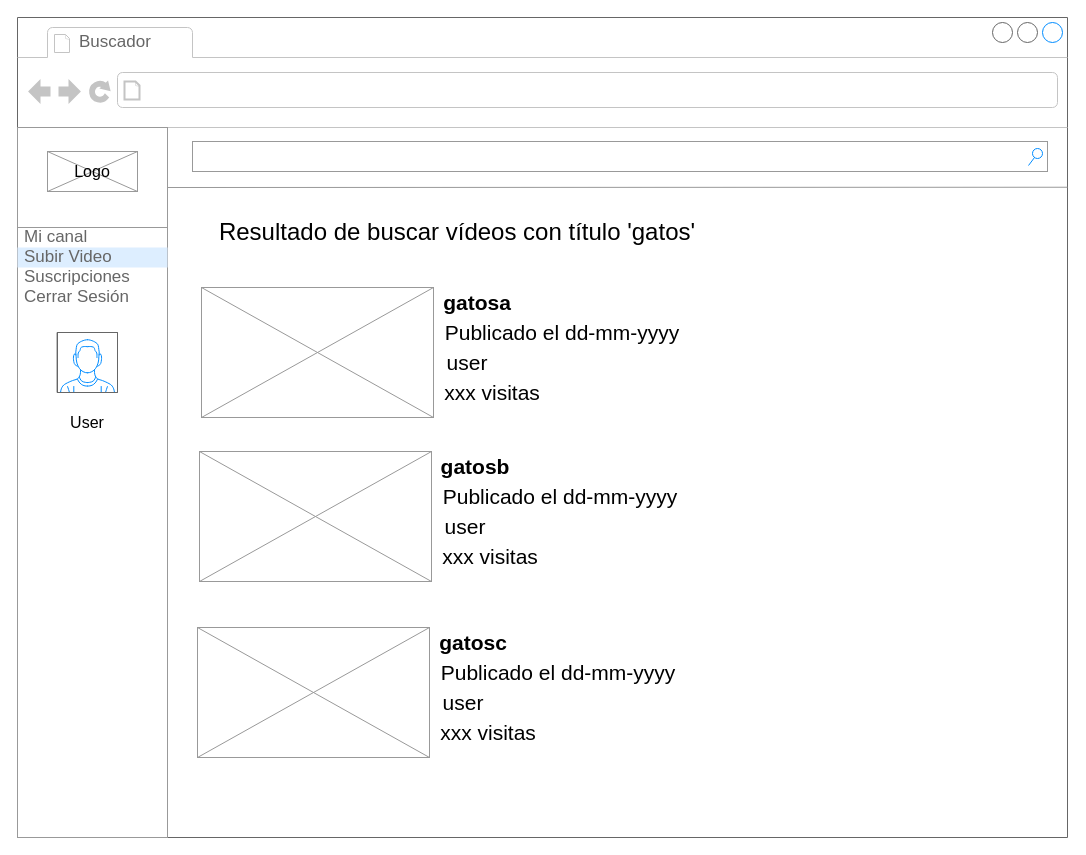
Some shapes in this 1086 by 855 pixel diagram are drawn without their labels. Here are the shapes that lost their labels. From the top down, the centre of each, then its label:
[272,90]: https://www.tube.com
[620,156]: gatos
